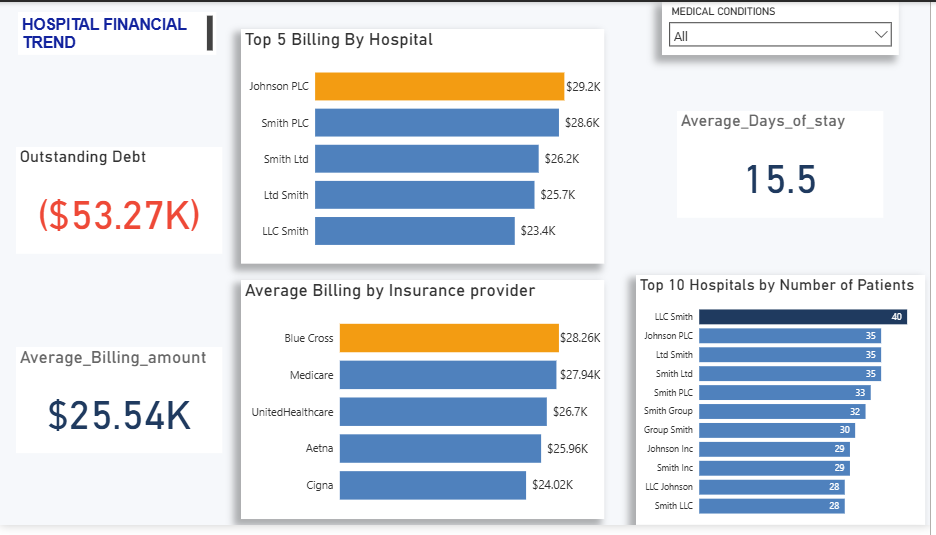

What the dashboard file says about the page in this screenshot:
{"tool":"powerbi","page":{"name":"Financial dashboard","canvas":[1280,720],"ordinal":0},"visuals":[{"type":"card","title":"Average_Billing_amount","fields":{"Values":["Avg(healthcare_analysis healthcare_dashboards.Billing_Amount)"]},"box":[22,474.8,283.5,145.9],"z":0},{"type":"card","title":"Average_Days_of_stay","fields":{"Values":["Avg(healthcare_analysis healthcare_dashboards.length_of_stay)"]},"box":[932.2,150.7,283.5,147.3],"z":1000},{"type":"clusteredBarChart","title":"Top 5 Billing By Hospital","fields":{"Y":["Avg(healthcare_analysis healthcare_dashboards.Billing_Amount)"],"Category":["healthcare_analysis healthcare_dashboards.hospital"]},"box":[331.7,37.2,499.6,323.4],"z":2000},{"type":"slicer","title":"Avg_Billing_amount_by_Insurance_providers","fields":{"Values":["healthcare_analysis healthcare_dashboards.medical_condition"]},"box":[910.9,0,326.2,72.9],"z":3000},{"type":"card","title":"Outstanding Debt","fields":{"Values":["Sum(healthcare_analysis healthcare_dashboards.Money_owed)"]},"box":[22,199.6,283.5,147.3],"z":4000},{"type":"barChart","title":"Top 10 Hospitals by Number of Patients ","fields":{"Category":["healthcare_analysis healthcare_dashboards.hospital"],"Y":["Count(healthcare_analysis healthcare_dashboards.Name)"]},"box":[875.1,375.7,397.8,344.1],"z":5000},{"type":"clusteredBarChart","title":"Average Billing by Insurance provider","fields":{"Y":["Avg(healthcare_analysis healthcare_dashboards.Billing_Amount)"],"Category":["healthcare_analysis healthcare_dashboards.Insurance_Provider"]},"box":[331.7,382.6,499.6,328.9],"z":6000},{"type":"textbox","box":[24.8,13.8,272.5,59.2],"z":7000}]}

Visuals, with their boxes in screenshot pixels (x1, y1, x2, y2), scaled from the page's 1280x720 canvas onto the 936x535 screenshot:
"Average_Billing_amount" card: <region>16, 353, 223, 461</region>
"Average_Days_of_stay" card: <region>682, 112, 889, 221</region>
"Top 5 Billing By Hospital" clusteredBarChart: <region>243, 28, 608, 268</region>
"Avg_Billing_amount_by_Insurance_providers" slicer: <region>666, 0, 905, 54</region>
"Outstanding Debt" card: <region>16, 148, 223, 258</region>
"Top 10 Hospitals by Number of Patients " barChart: <region>640, 279, 931, 534</region>
"Average Billing by Insurance provider" clusteredBarChart: <region>243, 284, 608, 529</region>
textbox: <region>18, 10, 217, 54</region>
